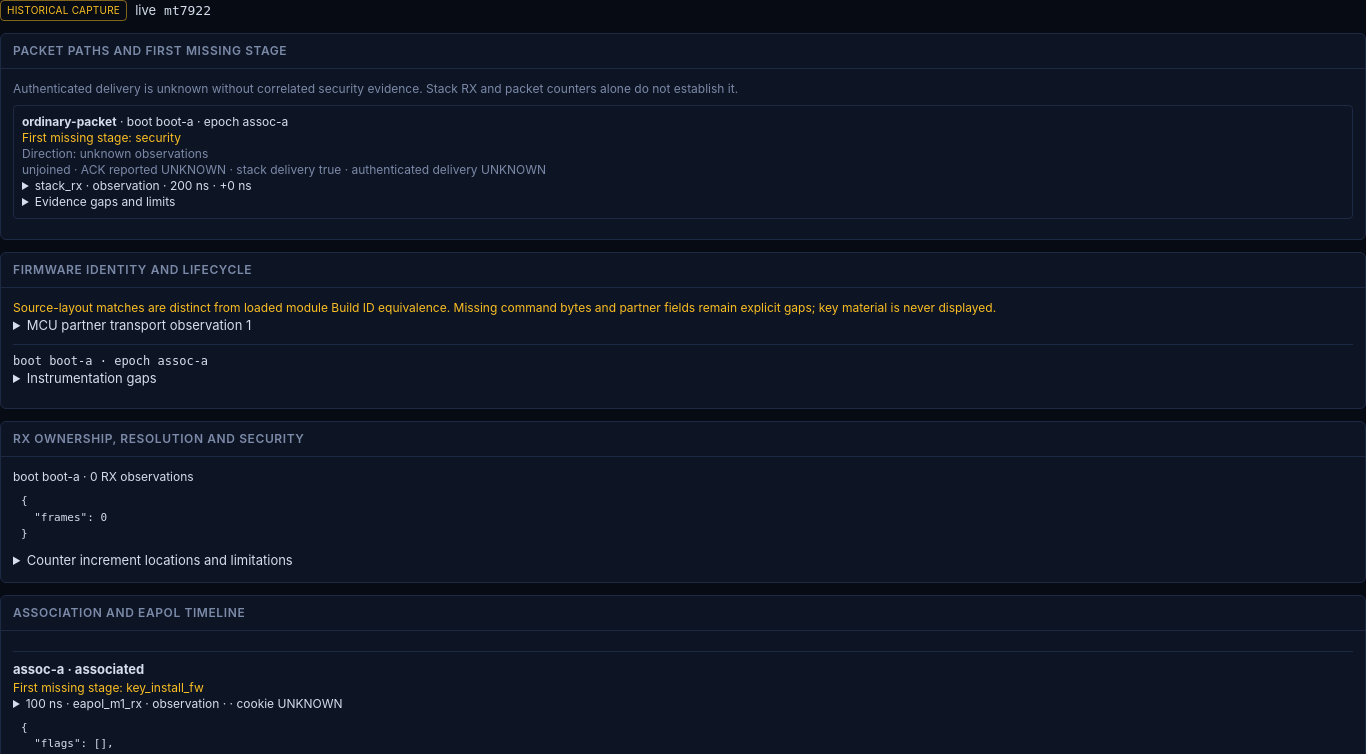
Test: firmware partner transport observations remain expandable with source limits
Step 1. Click the heading "MCU partner transport observation 1" → click(139, 325), box [27,317,251,333]
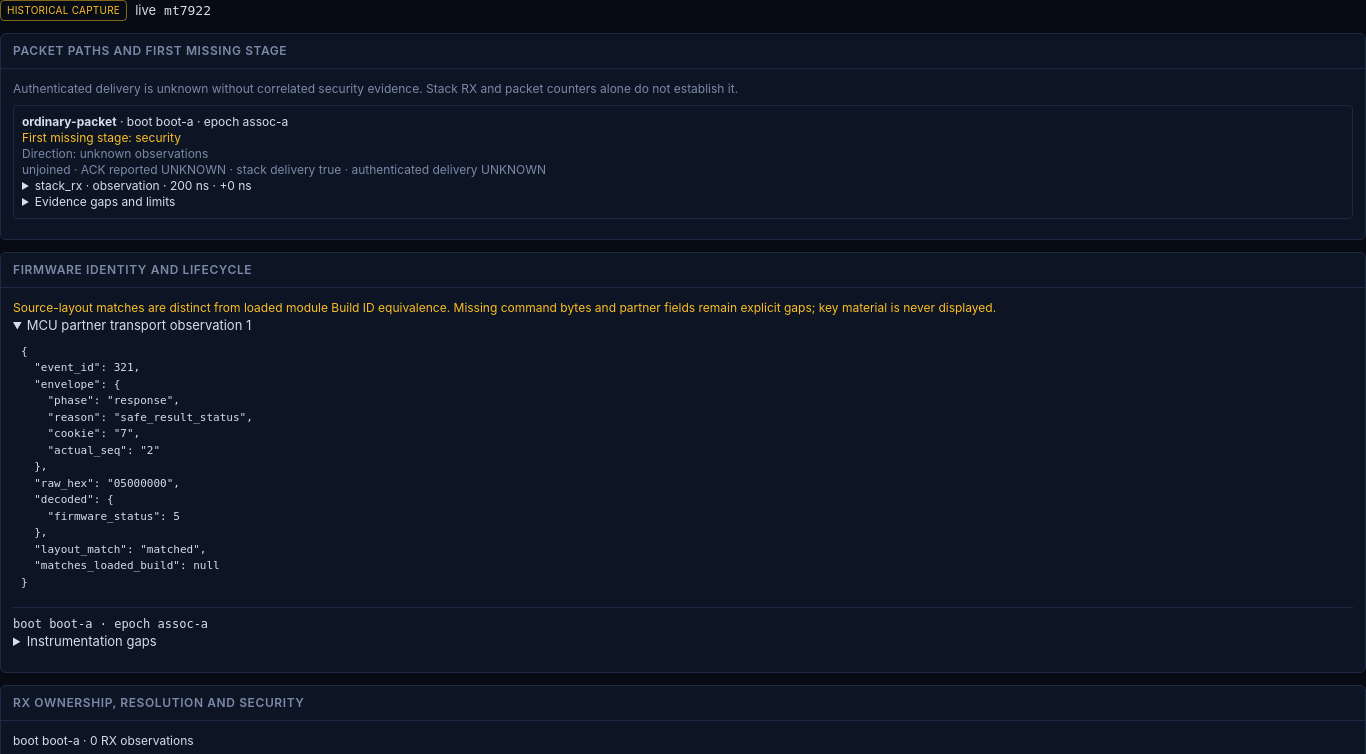
Check: the text "loaded module Build ID equivalence" is shown, box [13,300,996,315]
Check: the text "\"firmware_status\": 5" is shown, box [21,344,253,588]
